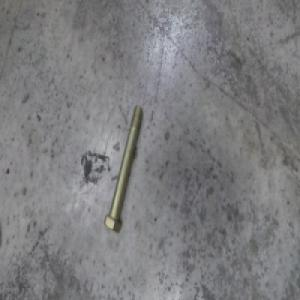Bolt: (104, 112, 143, 240)
